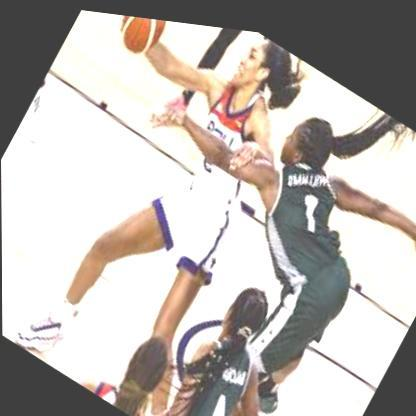basketball: (110, 11, 174, 61)
